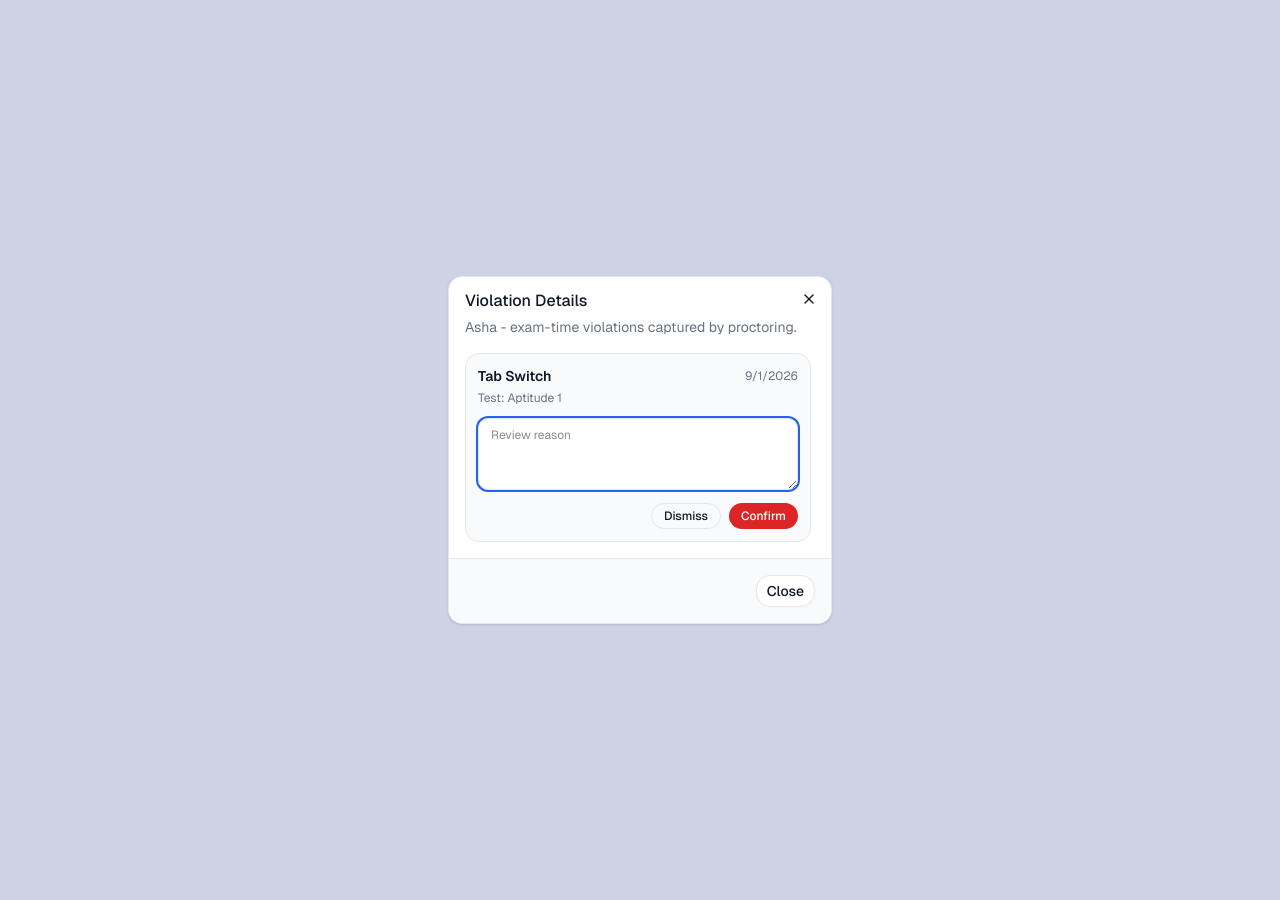
Scenario: ViolationReviewDialog › requires a reason before submitting
Click the button "Confirm": [764, 516] box [729,503,798,529]
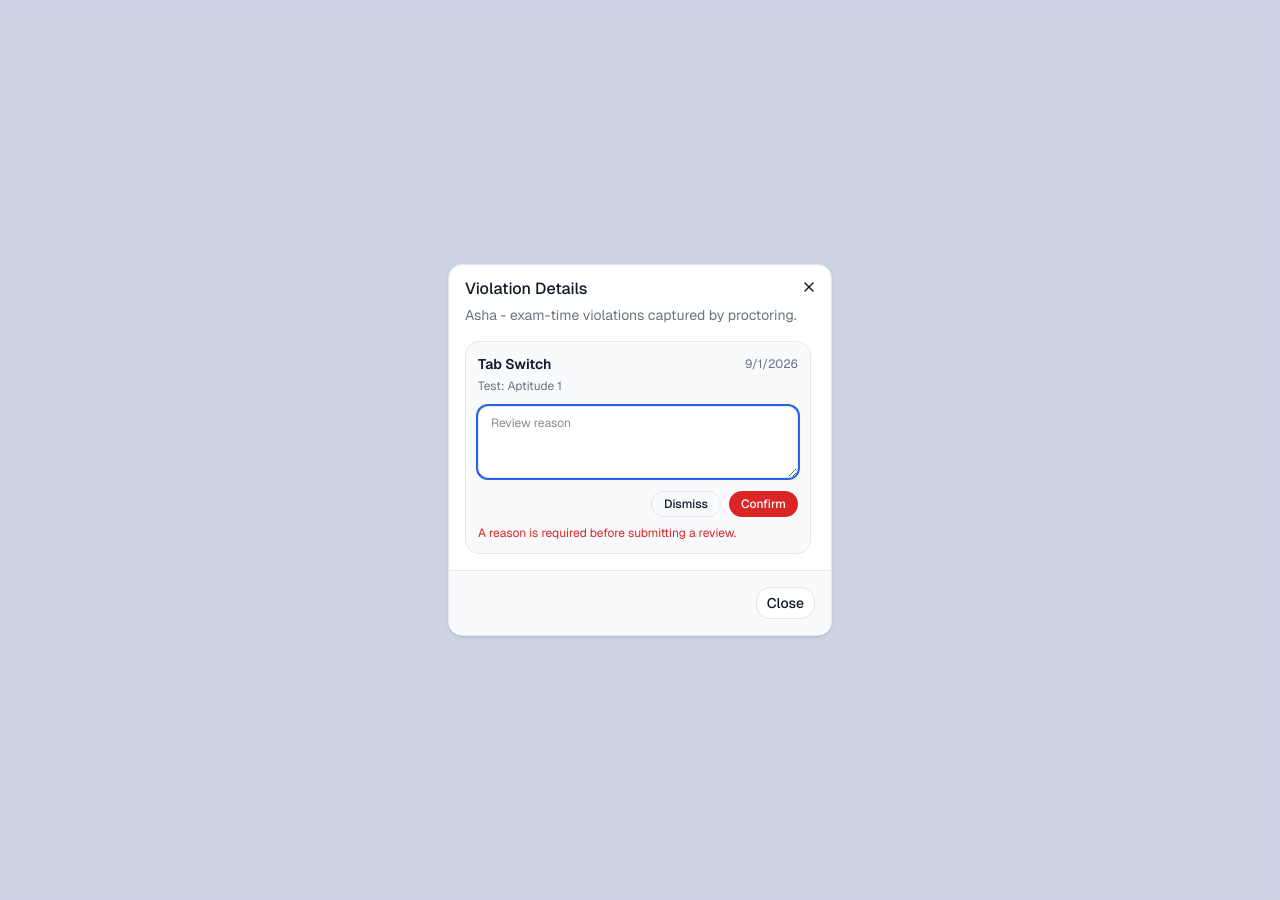
Check: the text "A reason is required before submitting a review." is shown, box [478,525,736,541]
